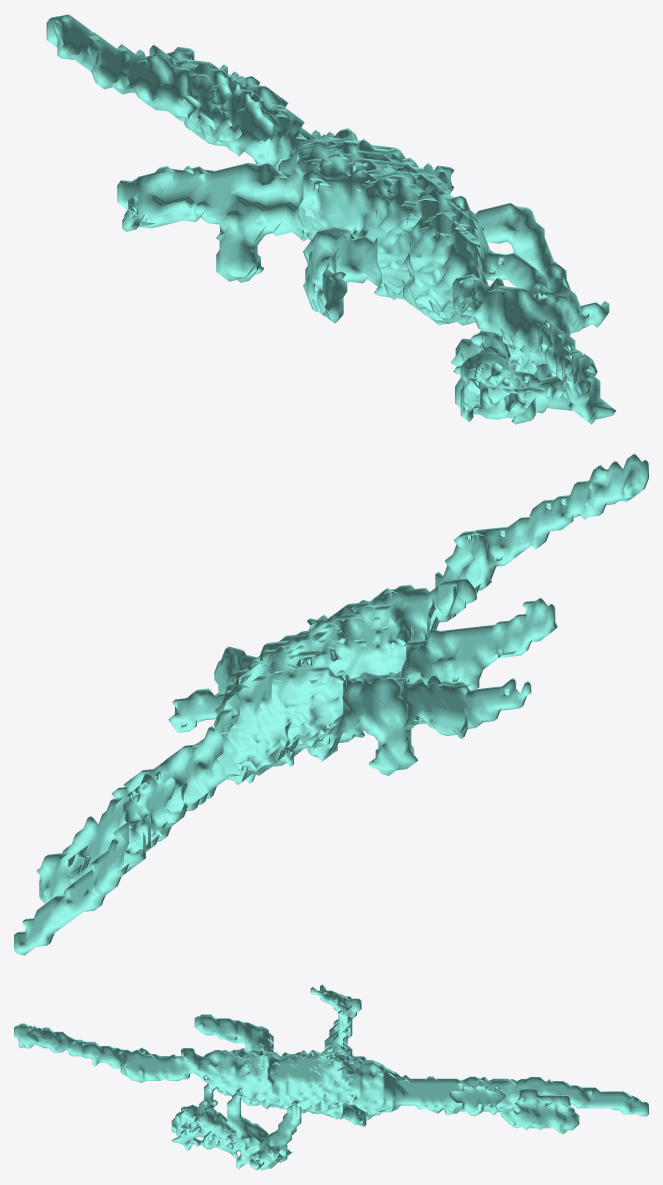
The model's file is osteocyte_43.glb.
3 renders of one model, top to bottom at view 1: azimuth 30°, elevation 25°; view 2: azimuth 150°, elevation 25°; view 3: azimuth 270°, elevation 25°, orthographic. The views are drawn at different scales.
Parts seen in each view (by area): view 1: osteocyte_43; view 2: osteocyte_43; view 3: osteocyte_43.
Boxes of the visible parts, left/top/right/bottom form: osteocyte_43: left=46, top=14, right=615, bottom=424; osteocyte_43: left=14, top=453, right=648, bottom=955; osteocyte_43: left=14, top=984, right=648, bottom=1170.
Size of the model in its own units: 25.04 by 12.04 by 65.96.
